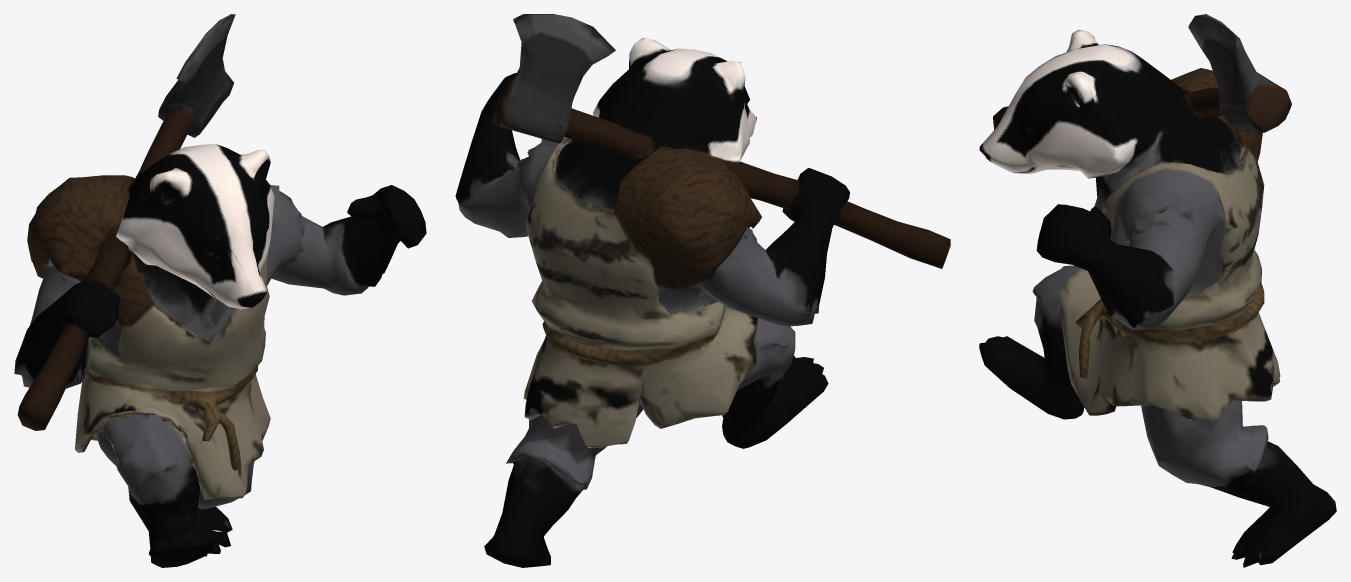
Rendered from wildkin_march.glb.
3 views of the same model, side by side, from view 1: azimuth 30°, elevation 25°; view 2: azimuth 150°, elevation 25°; view 3: azimuth 270°, elevation 25° (orthographic).
Visible parts, largest first — view 1: world; view 2: world; view 3: world.
Part boxes in pixels (x1,y1,x2,y2): world: [14, 14, 426, 567]; world: [455, 14, 950, 567]; world: [979, 14, 1336, 567].
Bounding box in the file's own units: 0.8365 × 0.9967 × 0.6038.
1 material, 1 textured.
